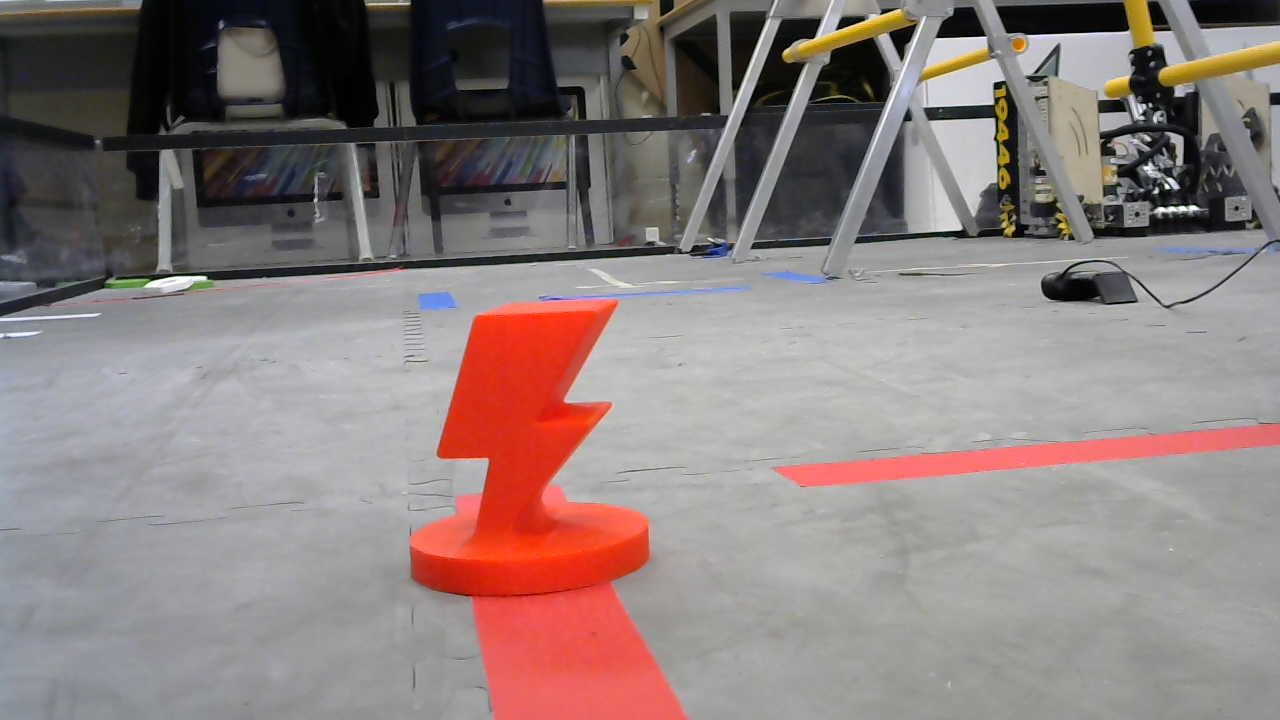redobject: (405, 296, 656, 599)
